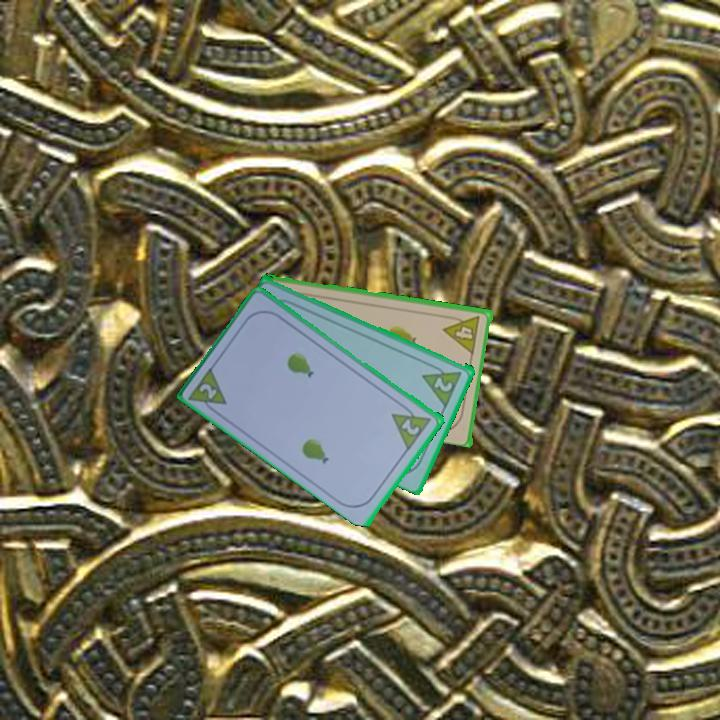2p: (186, 363, 231, 419), (389, 399, 435, 452), (431, 373, 456, 395)
4p: (441, 311, 483, 356)
